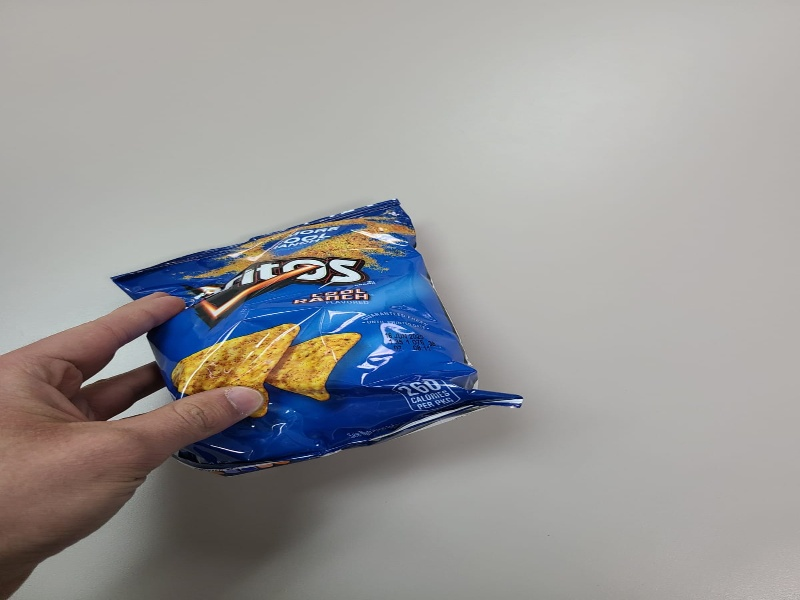doritos: (118, 195, 538, 489)
